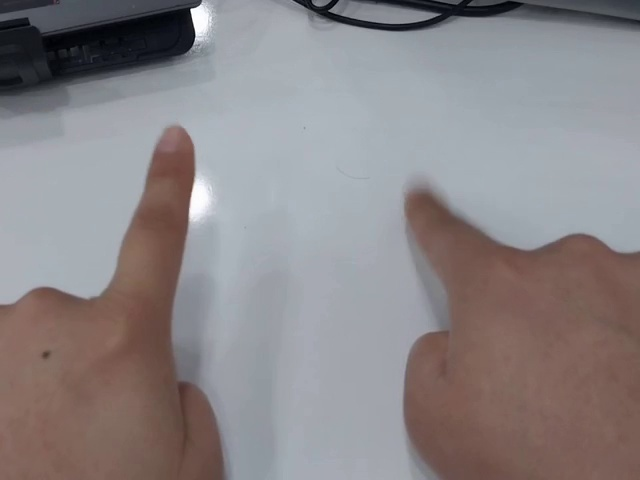fingers: (148, 122, 196, 185), (402, 182, 451, 235)
